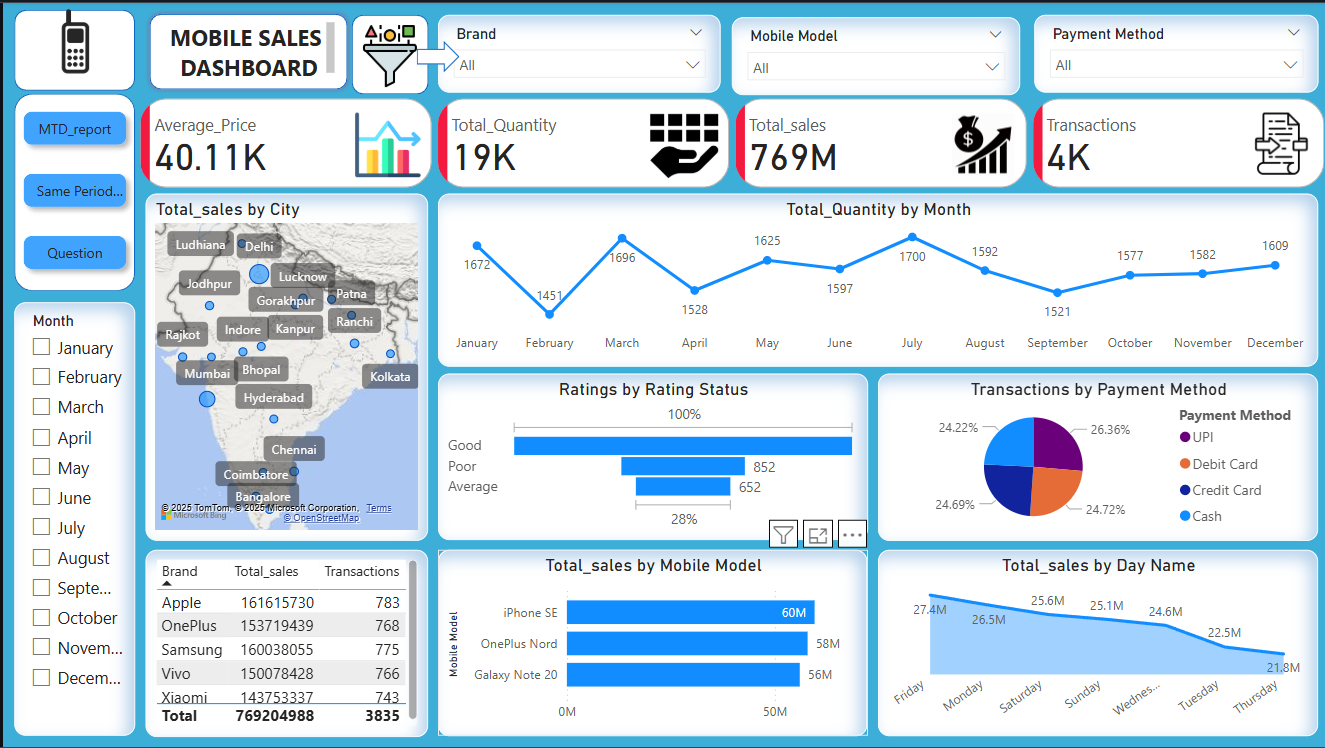

The page's visual inventory and layout, read from the dashboard file:
{"tool":"powerbi","page":{"name":"Dashboard","canvas":[1280,720],"ordinal":0},"visuals":[{"type":"shape","box":[11,8.2,116.6,78.2],"z":0},{"type":"image","box":[22,0,94.7,78.2],"z":1000},{"type":"shape","box":[11,89.2,116.6,190.7],"z":2000},{"type":"shape","box":[11,290.9,116.6,418.5],"z":3000},{"type":"cardVisual","fields":{"Data":["sales_data.Average_Price","sales_data.Total_Quantity","sales_data.Total_sales","sales_data.Transactions"]},"box":[127.9,89.3,1152.2,96.5],"z":4000},{"type":"slicer","fields":{"Values":["sales_data.Payment Method"]},"box":[994.9,13.7,274.4,75.5],"z":5000},{"type":"slicer","fields":{"Values":["sales_data.Mobile Model"]},"box":[703.9,15.1,278.6,75.5],"z":6000},{"type":"slicer","fields":{"Values":["sales_data.Brand"]},"box":[419.9,13.7,273.1,75.5],"z":7000},{"type":"shape","box":[336.2,13.7,74.1,76.8],"z":8000},{"type":"image","box":[336.2,8.2,74.1,89.2],"z":9000},{"type":"shape","box":[399.3,38.4,41.2,30.2],"z":10000},{"type":"shape","box":[137.2,8.2,199,81],"z":11000},{"type":"textbox","box":[152.3,15.1,172.9,63.1],"z":12000},{"type":"map","fields":{"Category":["sales_data.City"],"Size":["sales_data.Total_sales"]},"box":[137.2,185.2,273.1,334.8],"z":13000},{"type":"lineChart","fields":{"Y":["sales_data.Total_Quantity"],"Category":["Custom_Calender.date.Variation.Date Hierarchy.Month"]},"box":[419.9,185.2,849.4,167.4],"z":14000},{"type":"funnel","title":"Ratings by Rating Status","fields":{"Y":["CountNonNull(sales_data.Customer Ratings)"],"Category":["sales_data.Rating Status"]},"box":[419.8,359.5,415,160.5],"z":15000},{"type":"pieChart","fields":{"Category":["sales_data.Payment Method"],"Y":["sales_data.Transactions"]},"box":[844.5,359.5,424.7,161.7],"z":16000},{"type":"clusteredBarChart","fields":{"Y":["sales_data.Total_sales"],"Category":["sales_data.Mobile Model"]},"box":[419.9,529.7,414.4,179.8],"z":17000},{"type":"areaChart","fields":{"Y":["sales_data.Total_sales"],"Category":["Custom_Calender.Day Name"]},"box":[844.5,529.6,424.7,179.8],"z":18000},{"type":"tableEx","fields":{"Values":["sales_data.Brand","sales_data.Total_sales","sales_data.Transactions"]},"box":[137.5,529.6,272.7,181],"z":19000},{"type":"slicer","fields":{"Values":["Custom_Calender.date.Variation.Date Hierarchy.Month"]},"box":[10.9,290.8,117,418.6],"z":21000},{"type":"pageNavigator","box":[10.9,97.7,117,171.3],"z":21001}]}

Visuals, with their boxes in screenshot pixels (x1, y1, x2, y2), scaled from the page's 1280x720 canvas onto the 1325x748 screenshot:
shape: [x1=11, y1=9, x2=132, y2=90]
image: [x1=23, y1=0, x2=121, y2=81]
shape: [x1=11, y1=93, x2=132, y2=291]
shape: [x1=11, y1=302, x2=132, y2=737]
cardVisual - sales_data.Average_Price x sales_data.Total_Quantity: [x1=132, y1=93, x2=1324, y2=193]
slicer - sales_data.Payment Method: [x1=1030, y1=14, x2=1314, y2=93]
slicer - sales_data.Mobile Model: [x1=729, y1=16, x2=1017, y2=94]
slicer - sales_data.Brand: [x1=435, y1=14, x2=717, y2=93]
shape: [x1=348, y1=14, x2=425, y2=94]
image: [x1=348, y1=9, x2=425, y2=101]
shape: [x1=413, y1=40, x2=456, y2=71]
shape: [x1=142, y1=9, x2=348, y2=93]
textbox: [x1=158, y1=16, x2=337, y2=81]
map - sales_data.City x sales_data.Total_sales: [x1=142, y1=192, x2=425, y2=540]
lineChart - sales_data.Total_Quantity x Custom_Calender.date.Variation.Date Hierarchy.Month: [x1=435, y1=192, x2=1314, y2=366]
"Ratings by Rating Status" funnel: [x1=435, y1=373, x2=864, y2=540]
pieChart - sales_data.Payment Method x sales_data.Transactions: [x1=874, y1=373, x2=1314, y2=541]
clusteredBarChart - sales_data.Total_sales x sales_data.Mobile Model: [x1=435, y1=550, x2=864, y2=737]
areaChart - sales_data.Total_sales x Custom_Calender.Day Name: [x1=874, y1=550, x2=1314, y2=737]
tableEx - sales_data.Brand x sales_data.Total_sales: [x1=142, y1=550, x2=425, y2=738]
slicer - Custom_Calender.date.Variation.Date Hierarchy.Month: [x1=11, y1=302, x2=132, y2=737]
pageNavigator: [x1=11, y1=101, x2=132, y2=279]
